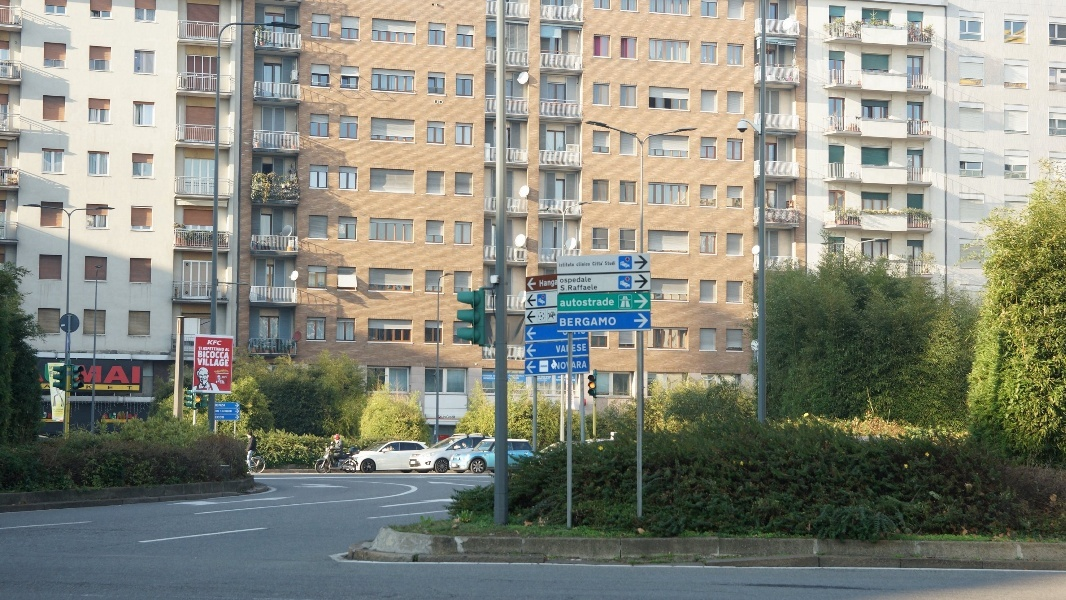text: (81, 365, 96, 384), (97, 365, 112, 384), (113, 365, 128, 384), (129, 365, 141, 384), (561, 317, 576, 327), (577, 317, 592, 327), (593, 317, 608, 327), (561, 297, 576, 307), (577, 297, 592, 307), (593, 297, 608, 307), (209, 358, 224, 367), (73, 365, 80, 384), (545, 279, 558, 289), (209, 351, 224, 359), (561, 276, 576, 284), (577, 276, 592, 284), (561, 284, 576, 291), (577, 284, 592, 291), (198, 358, 208, 367), (593, 261, 608, 267), (577, 360, 587, 369), (209, 340, 223, 346), (561, 262, 575, 268), (577, 261, 591, 267), (198, 351, 208, 359), (552, 362, 560, 371), (577, 344, 586, 352), (609, 317, 616, 327), (209, 347, 224, 351), (226, 348, 240, 352), (561, 362, 567, 371), (86, 385, 96, 390), (609, 297, 614, 307), (539, 279, 544, 289), (554, 345, 560, 353), (561, 345, 567, 353), (215, 415, 224, 420), (609, 260, 617, 265), (225, 358, 229, 367), (215, 403, 224, 407), (225, 351, 229, 359), (593, 284, 597, 291), (199, 347, 208, 350), (573, 360, 576, 369), (573, 344, 576, 352), (203, 347, 208, 351), (108, 386, 112, 390), (605, 260, 608, 265), (129, 386, 132, 390), (49, 385, 51, 389), (225, 376, 228, 378), (559, 262, 560, 268), (575, 261, 576, 267), (127, 386, 128, 390), (47, 385, 48, 389), (225, 403, 226, 407), (223, 376, 224, 378)
